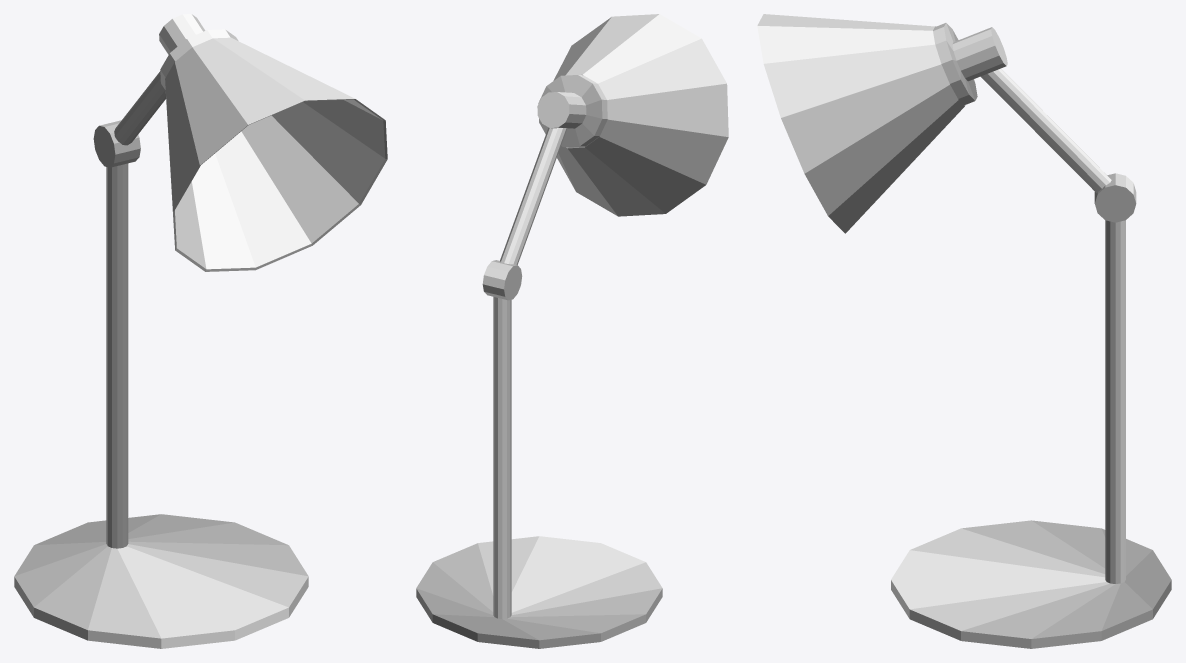
File: new_lamp.fbx
3 views of the same model, side by side, from view 1: azimuth 30°, elevation 25°; view 2: azimuth 150°, elevation 25°; view 3: azimuth 270°, elevation 25° (orthographic). The views are drawn at different scales.
Visible parts, largest first — view 1: Circle.002; view 2: Circle.002; view 3: Circle.002.
Part boxes in pixels (<box>): Circle.002: <box>14,14,387,648</box>; Circle.002: <box>416,14,728,648</box>; Circle.002: <box>757,14,1171,648</box>.
Size of the model in its own units: 100 by 222 by 148.
